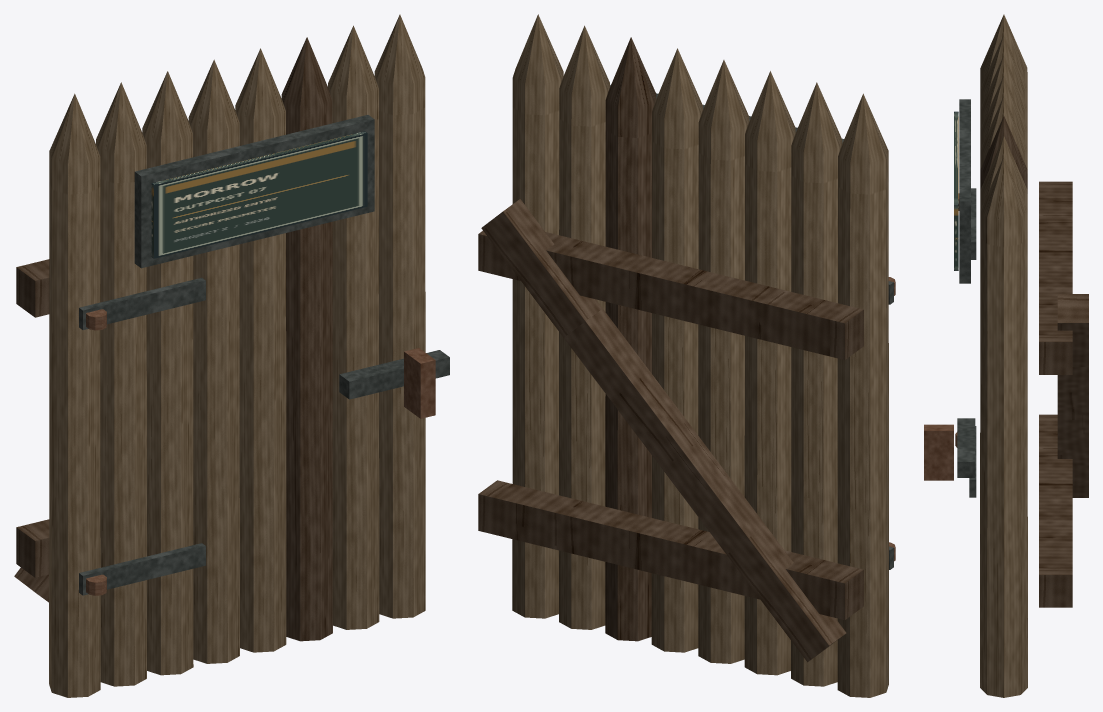
The model's file is PZ_Palisade_GateLeaf_HingePivot.glb.
The picture shows the model from 3 angles, left to right: view 1: azimuth 30°, elevation 25°; view 2: azimuth 150°, elevation 25°; view 3: azimuth 270°, elevation 25°; orthographic projection. The views are drawn at different scales.
Visible parts, largest first — view 1: GATE_LEAF__Wood_Log_01, GATE_LEAF__Wood_Log_08, GATE_LEAF__Wood_Log_02, GATE_LEAF__Wood_Log_05, GATE_LEAF__Wood_Log_06, GATE_LEAF__Wood_Log_07, GATE_LEAF__Wood_Log_04, GATE_LEAF__Wood_Log_03, GATE_LEAF__Outpost_07_Sign, GATE_LEAF__Name_Plate_Back, GATE_LEAF__Hinge_Strap_2, GATE_LEAF__Hinge_Strap_1 (+4 smaller); view 2: GATE_LEAF__Wood_Log_01, GATE_LEAF__Diagonal_Brace, GATE_LEAF__Wood_Log_08, GATE_LEAF__Wood_Log_03, GATE_LEAF__Wood_Log_02, GATE_LEAF__Wood_Log_07, GATE_LEAF__Wood_Log_04, GATE_LEAF__Wood_Log_05, GATE_LEAF__Wood_Log_06, GATE_LEAF__Timber_Crossbrace_2, GATE_LEAF__Timber_Crossbrace_1; view 3: GATE_LEAF__Wood_Log_08, GATE_LEAF__Timber_Crossbrace_2, GATE_LEAF__Timber_Crossbrace_1, GATE_LEAF__Diagonal_Brace, GATE_LEAF__Name_Plate_Back, GATE_LEAF__Latch_Handle, GATE_LEAF__Latch_Bar, GATE_LEAF__Wood_Log_07, GATE_LEAF__Wood_Log_04, GATE_LEAF__Wood_Log_01, GATE_LEAF__Wood_Log_02, GATE_LEAF__Wood_Log_06 (+4 smaller).
Part boxes in pixels (x1,y1,x2,y2): GATE_LEAF__Wood_Log_01: (49, 93, 100, 697); GATE_LEAF__Wood_Log_08: (374, 14, 425, 618); GATE_LEAF__Wood_Log_02: (96, 82, 146, 686); GATE_LEAF__Wood_Log_05: (235, 48, 286, 652); GATE_LEAF__Wood_Log_06: (281, 37, 332, 641); GATE_LEAF__Wood_Log_07: (328, 25, 379, 629); GATE_LEAF__Wood_Log_04: (188, 59, 239, 663); GATE_LEAF__Wood_Log_03: (142, 71, 193, 675); GATE_LEAF__Outpost_07_Sign: (151, 131, 367, 258); GATE_LEAF__Name_Plate_Back: (134, 115, 374, 268); GATE_LEAF__Hinge_Strap_2: (79, 277, 205, 329); GATE_LEAF__Hinge_Strap_1: (79, 543, 205, 595); GATE_LEAF__Wood_Log_01: (837, 93, 888, 697); GATE_LEAF__Diagonal_Brace: (481, 199, 846, 662); GATE_LEAF__Wood_Log_08: (512, 14, 563, 618); GATE_LEAF__Wood_Log_03: (744, 71, 795, 675); GATE_LEAF__Wood_Log_02: (791, 82, 842, 686); GATE_LEAF__Wood_Log_07: (559, 25, 609, 629); GATE_LEAF__Wood_Log_04: (698, 60, 749, 663); GATE_LEAF__Wood_Log_05: (651, 48, 702, 652); GATE_LEAF__Wood_Log_06: (605, 37, 656, 641); GATE_LEAF__Timber_Crossbrace_2: (478, 231, 863, 359); GATE_LEAF__Timber_Crossbrace_1: (478, 480, 863, 620); GATE_LEAF__Wood_Log_08: (980, 156, 1027, 697); GATE_LEAF__Timber_Crossbrace_2: (1039, 181, 1072, 374); GATE_LEAF__Timber_Crossbrace_1: (1039, 414, 1072, 607); GATE_LEAF__Diagonal_Brace: (1057, 294, 1088, 497); GATE_LEAF__Name_Plate_Back: (959, 99, 970, 283); GATE_LEAF__Latch_Handle: (924, 424, 953, 480); GATE_LEAF__Latch_Bar: (957, 418, 975, 477); GATE_LEAF__Wood_Log_07: (980, 136, 1027, 658); GATE_LEAF__Wood_Log_04: (980, 75, 1027, 597); GATE_LEAF__Wood_Log_01: (980, 14, 1027, 536); GATE_LEAF__Wood_Log_02: (980, 35, 1027, 556); GATE_LEAF__Wood_Log_06: (980, 116, 1027, 637).
Bounding box in the file's own units: 1.48 × 2.26 × 0.6345.
5 materials, 5 textured.
